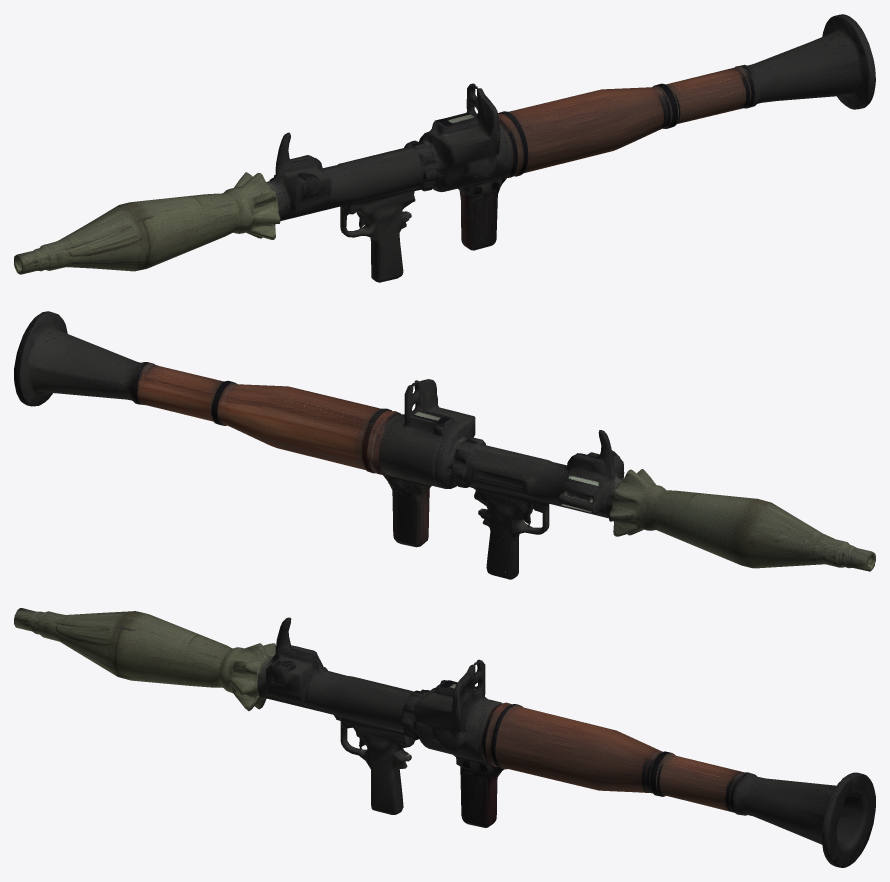
The model's file is Rocket_Propelled_Rifl.fbx.
The picture shows the model from 3 angles, top to bottom: view 1: azimuth 30°, elevation 25°; view 2: azimuth 150°, elevation 25°; view 3: azimuth 330°, elevation 25°; orthographic projection.
Visible parts, largest first — view 1: Mesh_0; view 2: Mesh_0; view 3: Mesh_0.
Part boxes in pixels (left/top/right/bottom): Mesh_0: left=14, top=14, right=875, bottom=282; Mesh_0: left=14, top=311, right=875, bottom=579; Mesh_0: left=14, top=608, right=875, bottom=867.
Size of the model in its own units: 191 by 37.32 by 19.18.
1 material, 1 textured.
